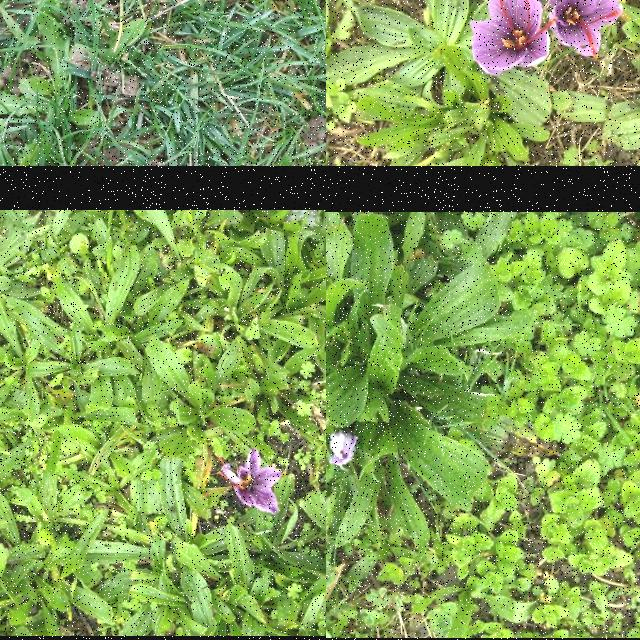flower: (469, 0, 556, 77), (547, 0, 623, 60), (222, 448, 282, 516), (329, 432, 359, 466)
